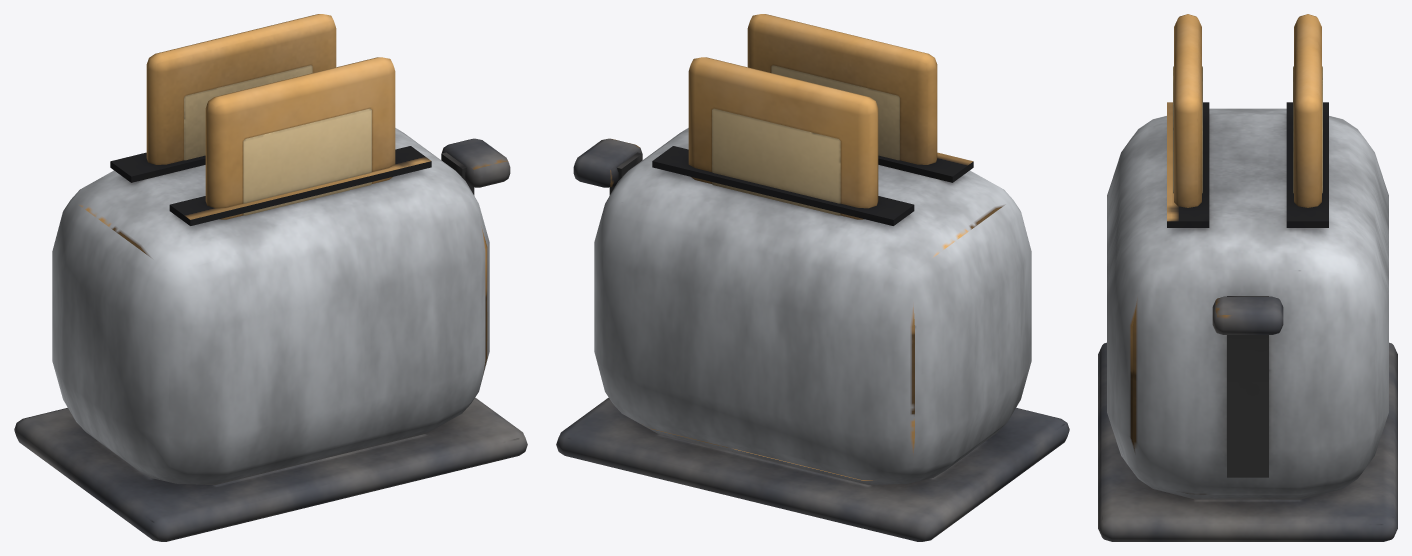
Rendered from toaster.fbx.
3 renders of one model, left to right at view 1: azimuth 30°, elevation 25°; view 2: azimuth 150°, elevation 25°; view 3: azimuth 270°, elevation 25°, orthographic.
Parts seen in each view (by area): view 1: Body, Toast, Lever; view 2: Body, Toast, Lever; view 3: Body, Toast, Lever.
Part boxes in pixels (box(x1,y1,x2,y2)): Body: box(14, 128, 527, 541); Toast: box(146, 14, 395, 219); Lever: box(441, 138, 510, 187); Body: box(556, 128, 1069, 541); Toast: box(688, 14, 937, 219); Lever: box(573, 138, 642, 187); Body: box(1098, 102, 1397, 541); Toast: box(1173, 14, 1322, 207); Lever: box(1212, 296, 1283, 334).
Size of the model in its own units: 1.38 by 1.25 by 0.85.
1 material, 1 textured.
